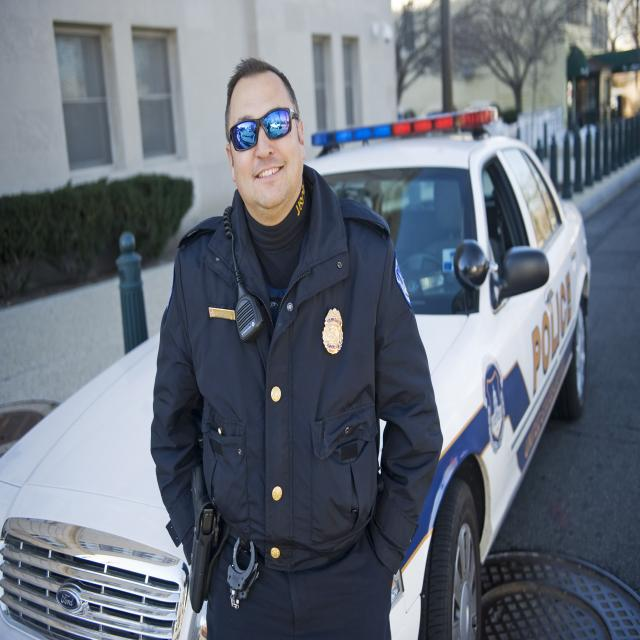police: (155, 37, 438, 640)
